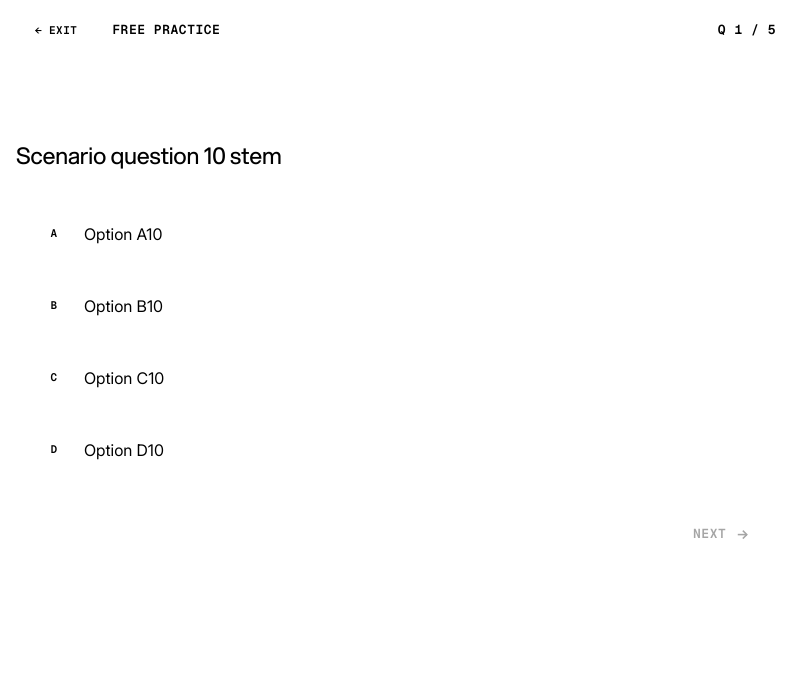
Test: QuizRunner — non-timed (free) mode › reveals explanation after selecting an answer
Click the radio button labelled "A Option A10" at (123, 234), box [16,203,776,263]
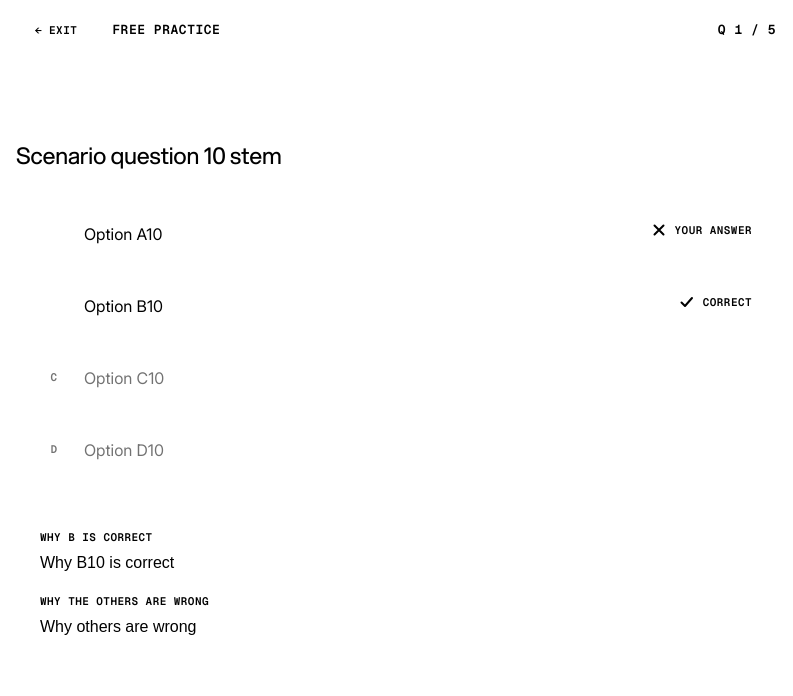
Expected: the element with class "explanation" is shown, [40,530,209,635]
